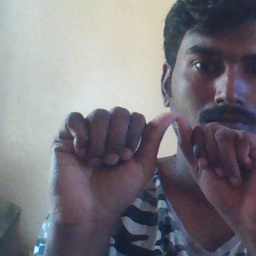A: (90, 97, 250, 210)
